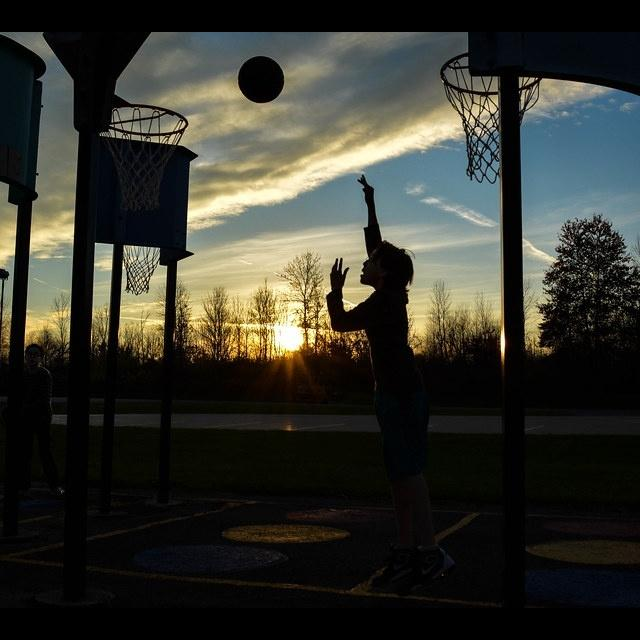basketball: (236, 54, 286, 104)
hoop: (435, 57, 547, 188), (110, 95, 192, 224), (120, 241, 166, 297)
